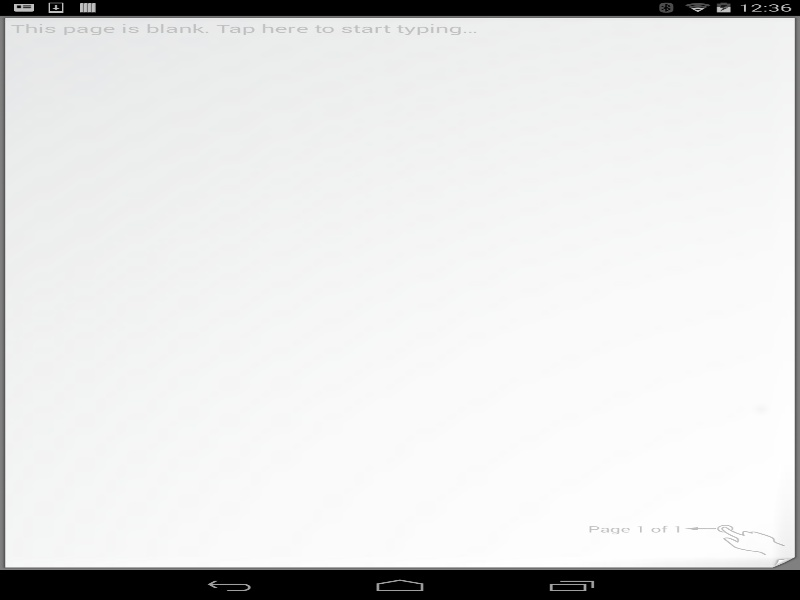Input: (10, 20, 789, 556)
